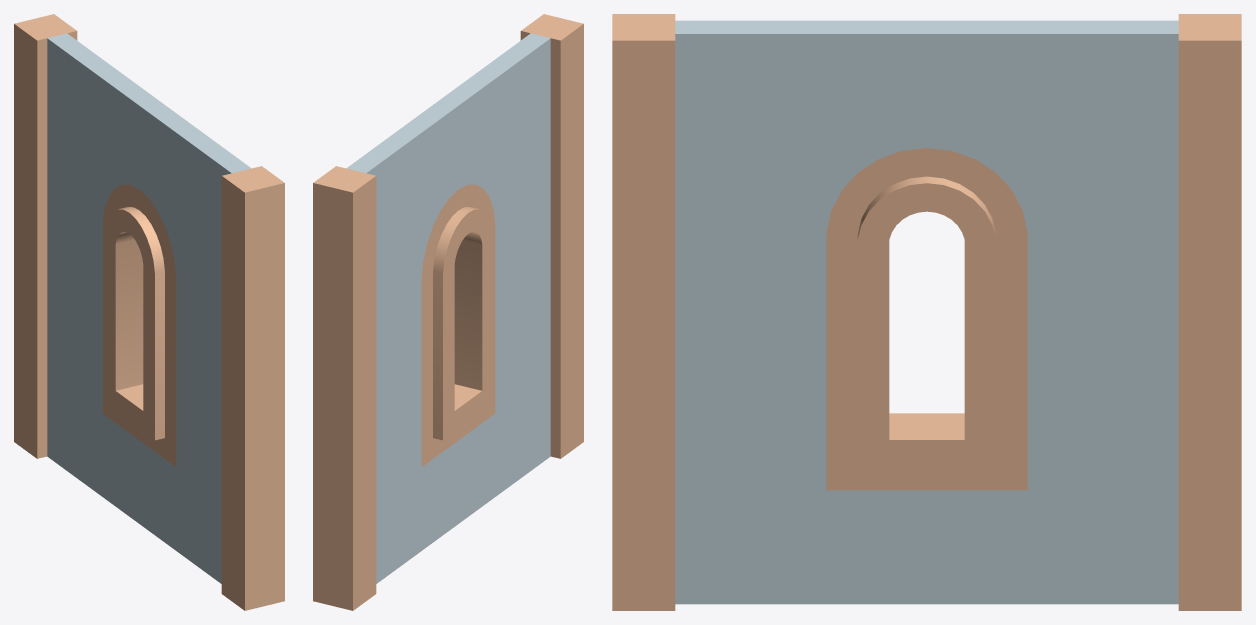
The model's file is wallWindowRound.glb.
3 renders of one model, left to right at view 1: azimuth 30°, elevation 25°; view 2: azimuth 150°, elevation 25°; view 3: azimuth 270°, elevation 25°, orthographic. The views are drawn at different scales.
Parts seen in each view (by area): view 1: wallWindowRound; view 2: wallWindowRound; view 3: wallWindowRound.
Boxes of the visible parts, x1=… form: wallWindowRound: x1=14, y1=14, x2=284, y2=610; wallWindowRound: x1=313, y1=14, x2=583, y2=610; wallWindowRound: x1=612, y1=14, x2=1241, y2=610.
Bounding box in the file's own units: 0.1 × 1 × 1.
